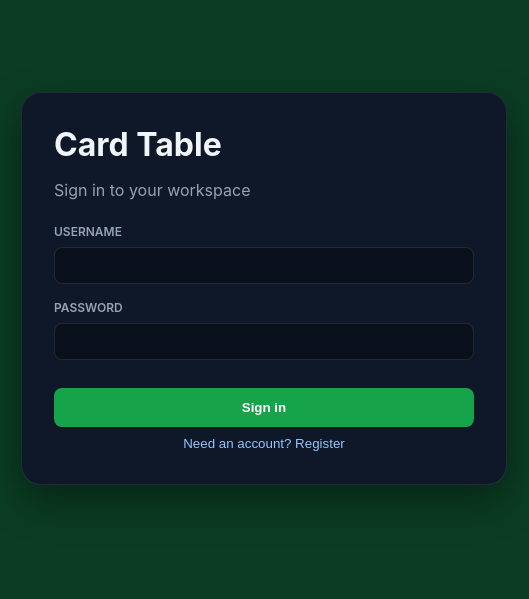
Scenario: AuthScreen › switches between login and registration fields
The image size is (529, 599).
Expected: the field labelled "Username" is shown, [54,246,474,284]
Click the button "Need an account? Register": [264, 443] box [54,434,474,452]
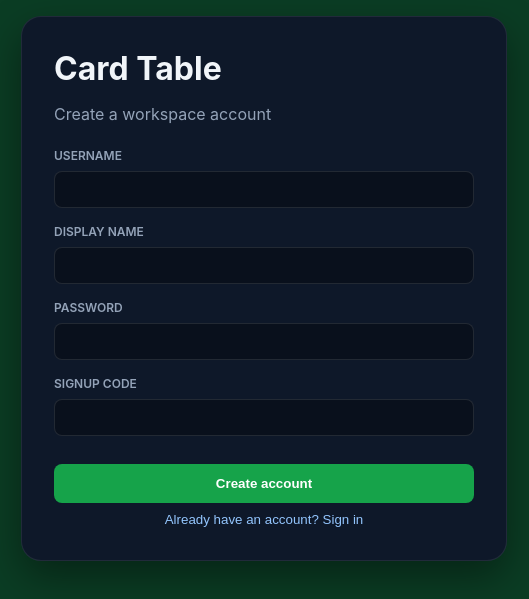
Expected: the field labelled "Display name" is shown, [54,246,474,284]
Expected: the password field labelled "Signup code" is shown, [54,398,474,436]
